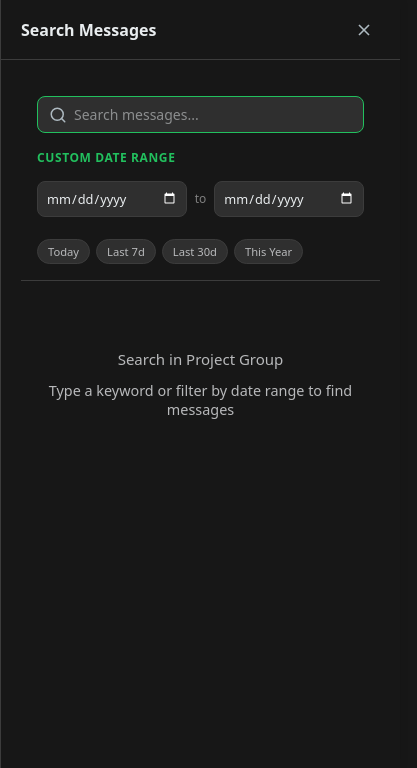
Test case: ChatSearchSidebar › clears all filters when Clear Filters button is clicked
Type "test" into the field with placeholder "Search messages..." at (200, 114), box [37,96,364,133]
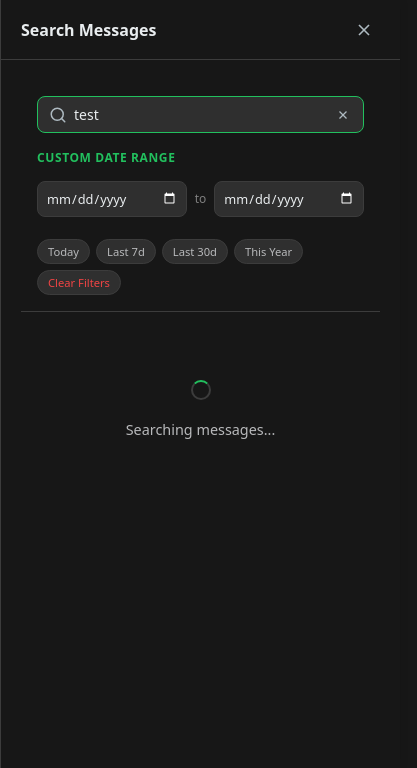
Click the text "Clear Filters" at (79, 282), box [37,270,121,295]
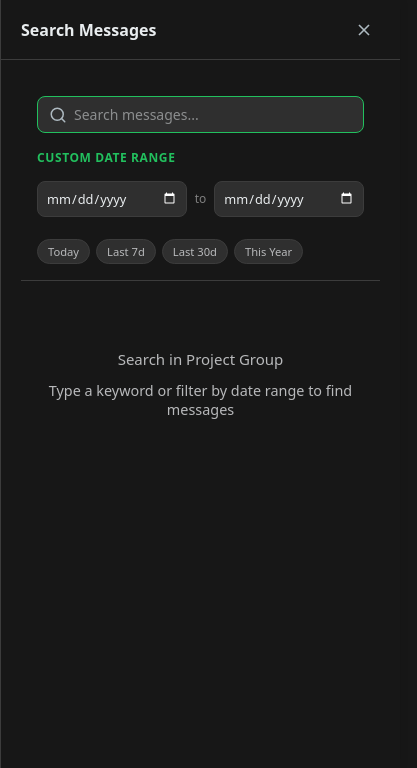
Check: the field with placeholder "Search messages..." is empty, box [37,96,364,133]
